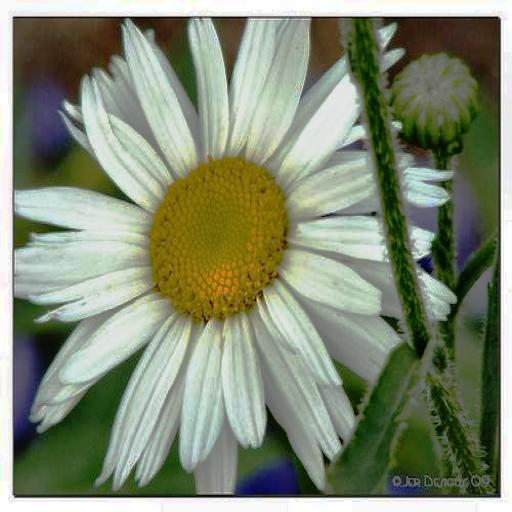daisy: (18, 24, 427, 494)
